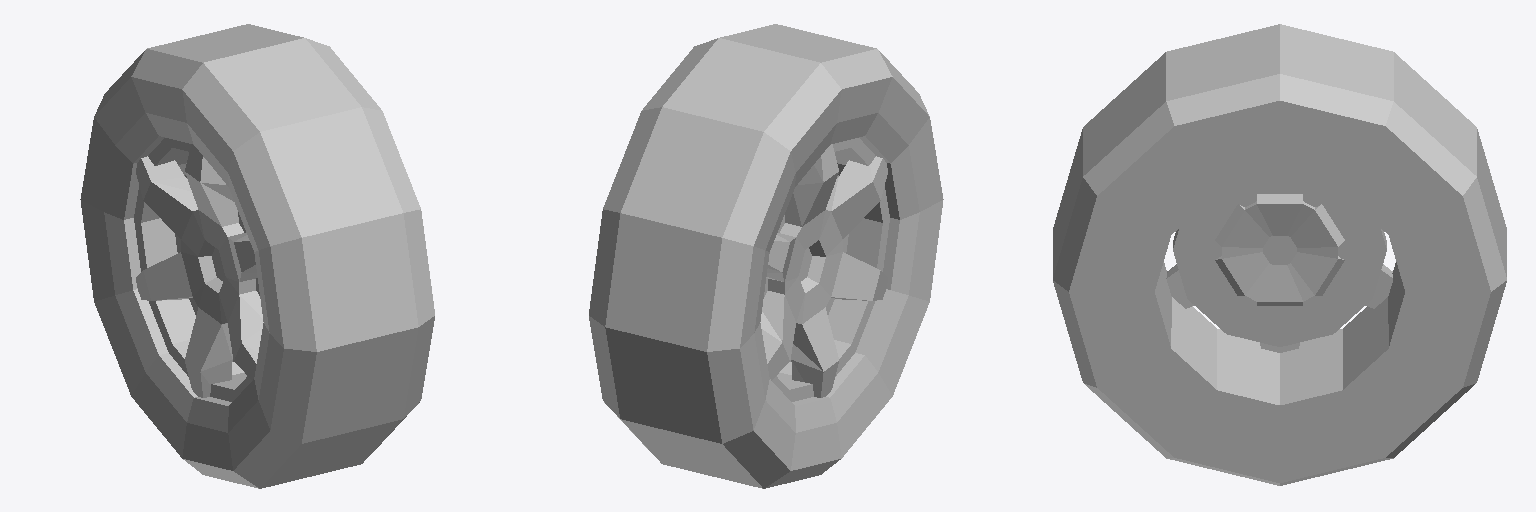
The model's file is wheel_fr.obj.
3 renders of one model, left to right at view 1: azimuth 30°, elevation 25°; view 2: azimuth 150°, elevation 25°; view 3: azimuth 270°, elevation 25°, orthographic.
Parts seen in each view (by area): view 1: front_right_SM_Veh_Car_Taxi_Wheel_fr_网格.004; view 2: front_right_SM_Veh_Car_Taxi_Wheel_fr_网格.004; view 3: front_right_SM_Veh_Car_Taxi_Wheel_fr_网格.004.
Boxes of the visible parts, <box> form: front_right_SM_Veh_Car_Taxi_Wheel_fr_网格.004: <box>80,24,434,488</box>; front_right_SM_Veh_Car_Taxi_Wheel_fr_网格.004: <box>589,24,943,488</box>; front_right_SM_Veh_Car_Taxi_Wheel_fr_网格.004: <box>1053,24,1506,485</box>.
Size of the model in its own units: 0.2708 by 0.7231 by 0.7231.